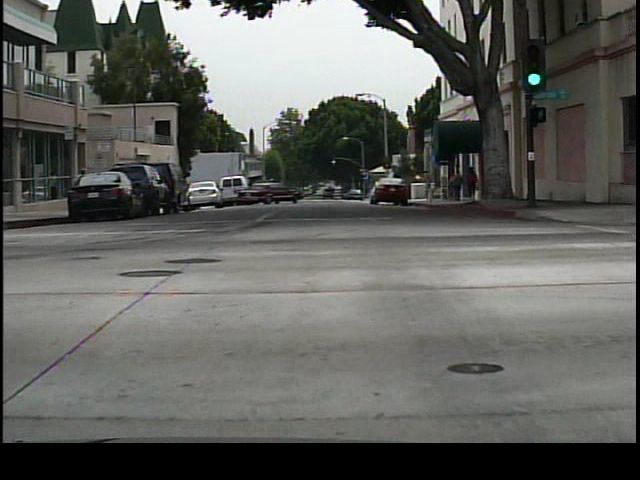person: (446, 168, 467, 204), (465, 162, 482, 206)
